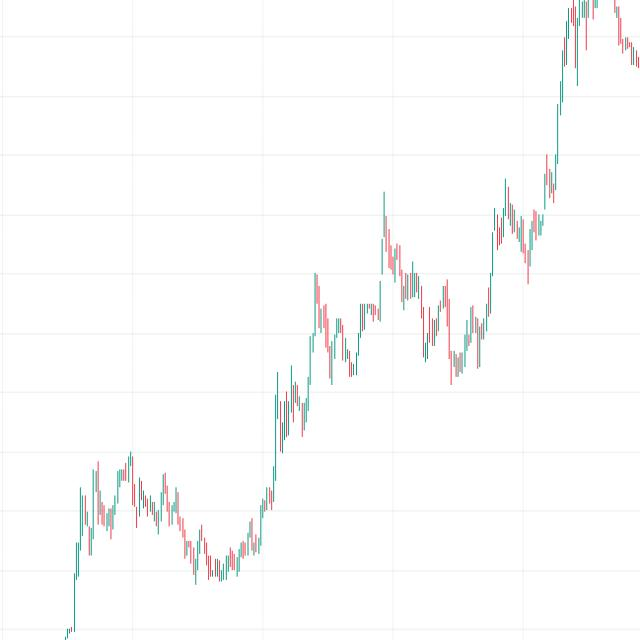Triple-Bottom: (416, 265, 500, 388)
